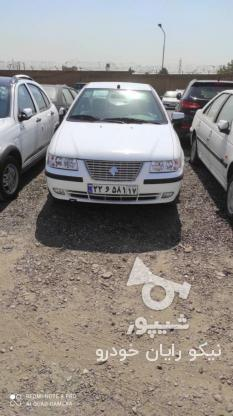car: (87, 184, 139, 195)
